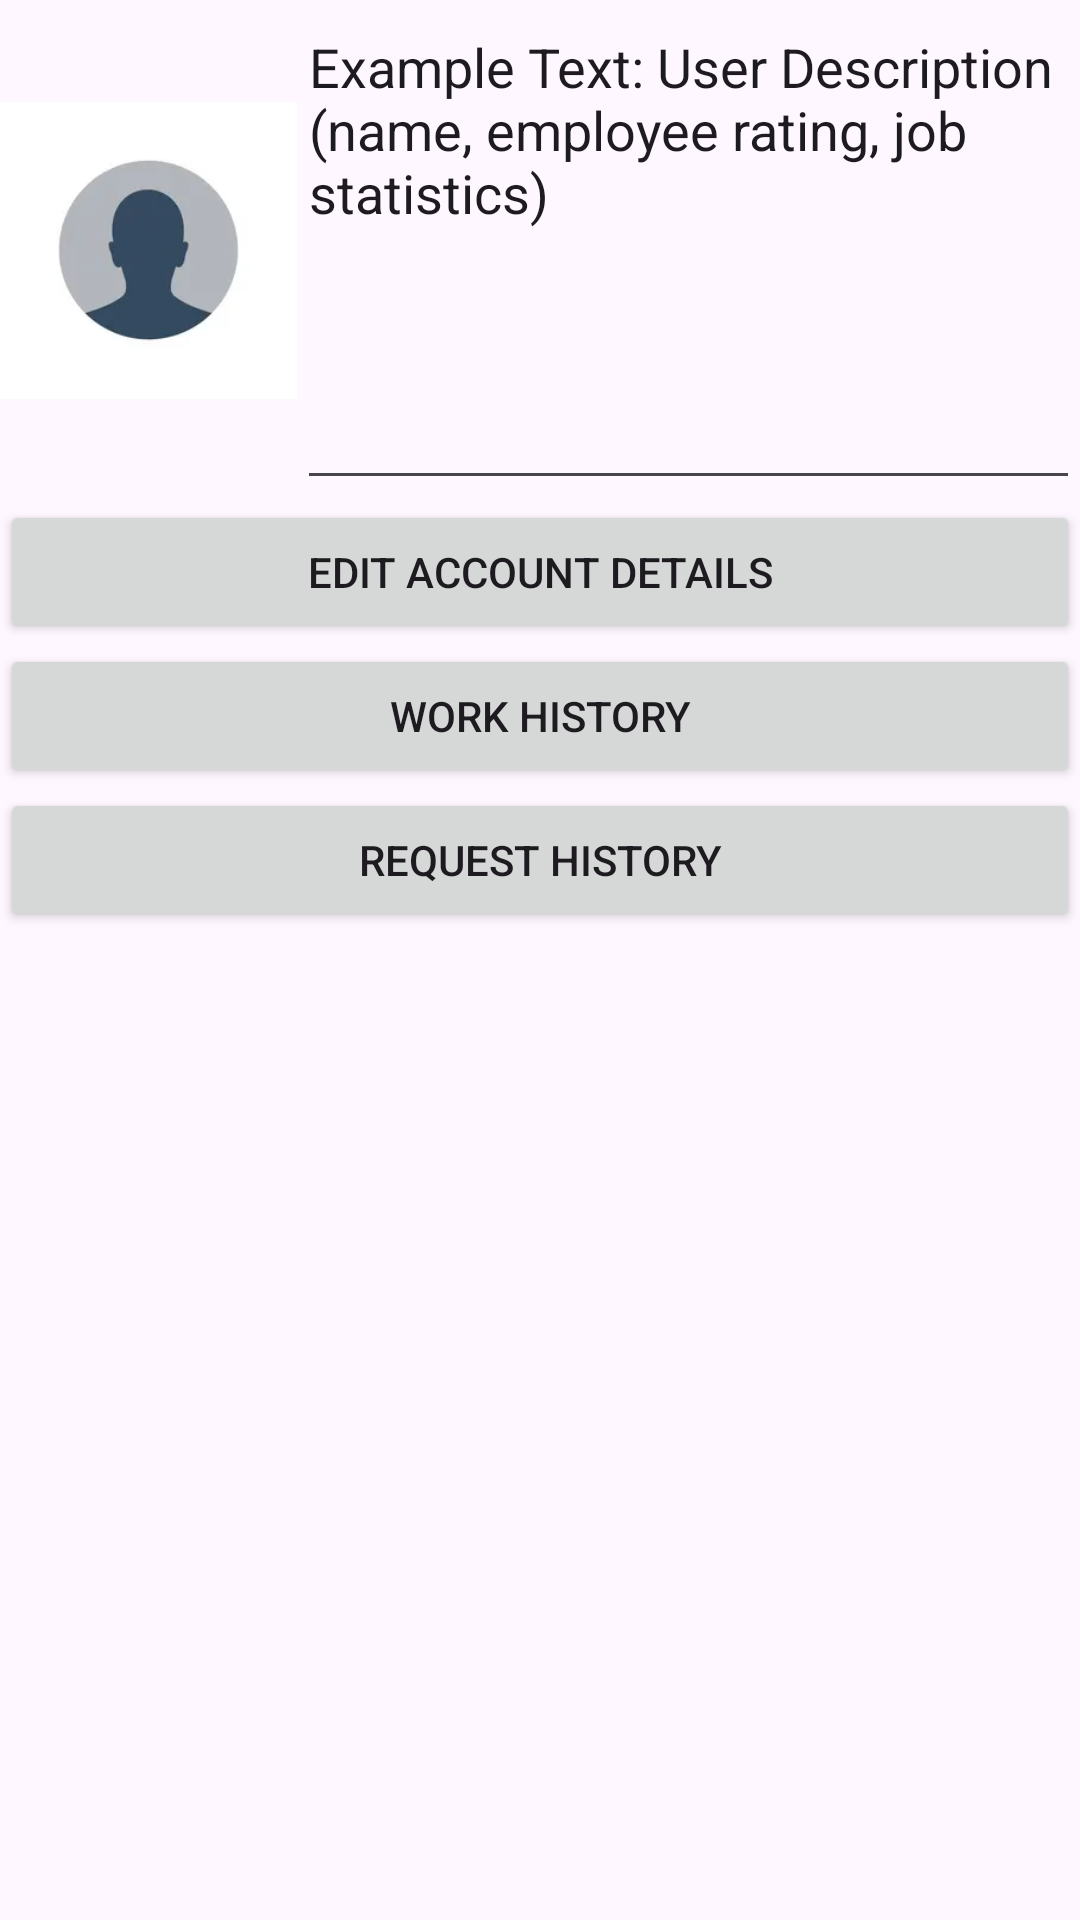

Point at icon controls on the screen. Image size 1080*1920, points as (x=x, y=y).
profilepicture: (x=148, y=250)
